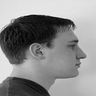ear: (25, 37, 51, 63)
